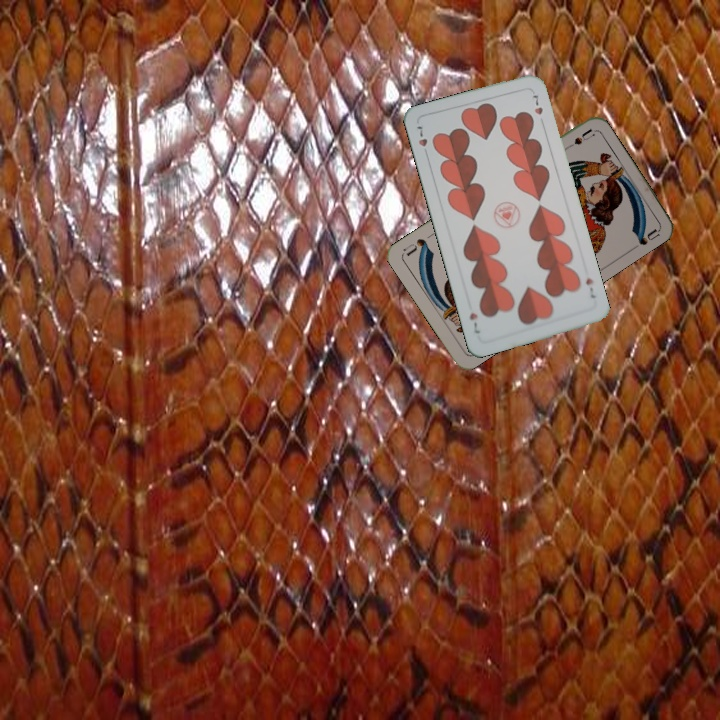H7: (413, 122, 431, 160), (582, 274, 598, 301)
SU: (558, 125, 596, 154)
